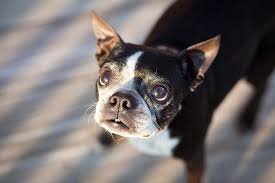dog: (76, 3, 228, 143)
